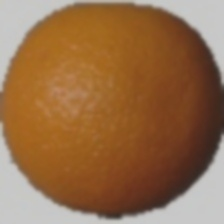orange: (22, 11, 185, 207)
